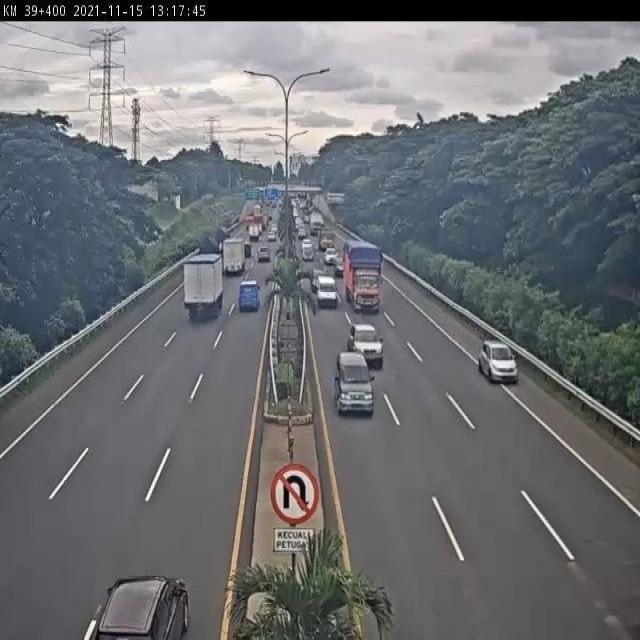bus-s-: (236, 278, 262, 314), (316, 278, 340, 310)
car: (333, 351, 375, 420), (477, 337, 520, 384), (347, 322, 386, 369), (308, 264, 329, 293)
truck-m-: (342, 241, 391, 311), (182, 252, 224, 319), (220, 234, 247, 274)
